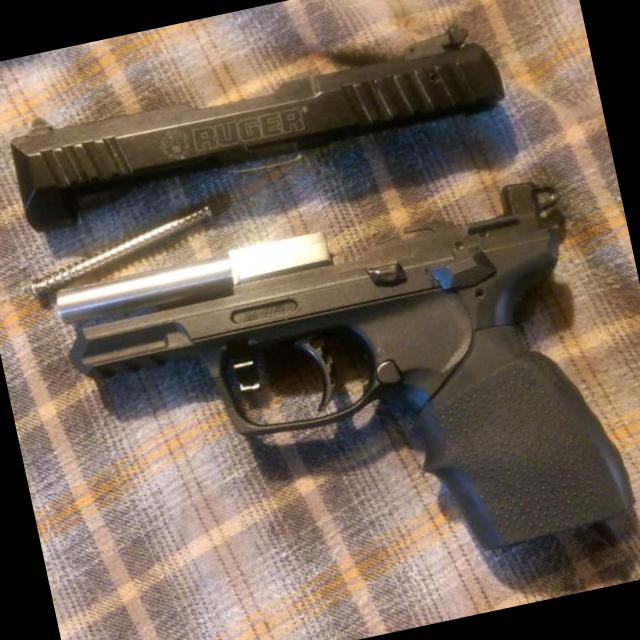Gun: (51, 183, 640, 551)
